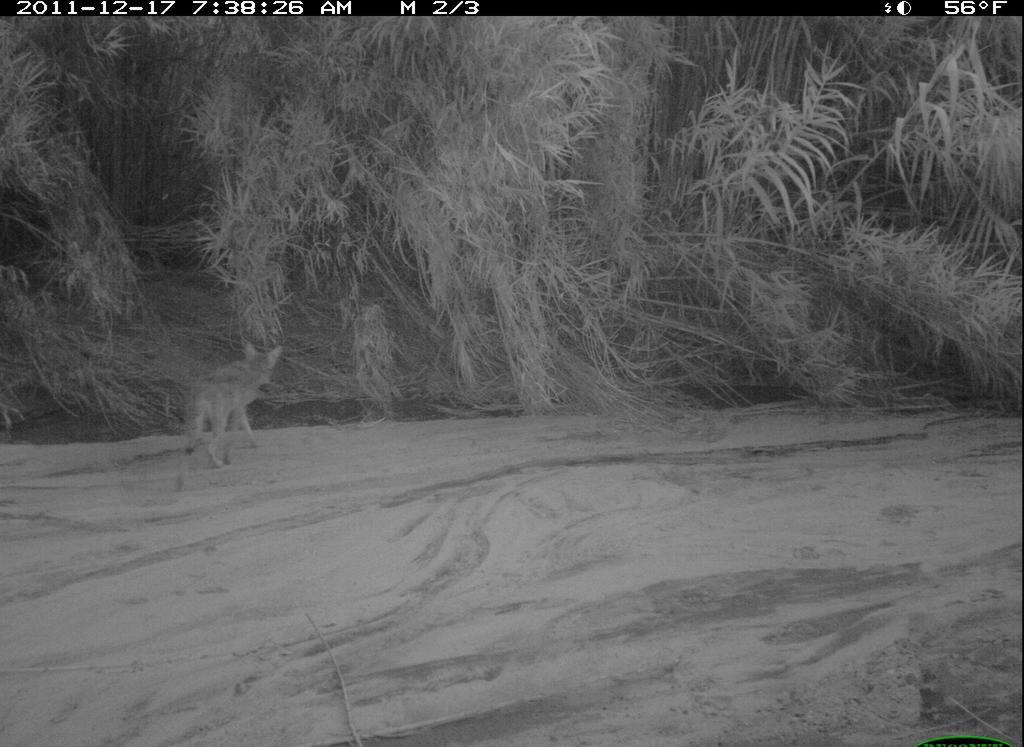coyote: (172, 335, 289, 477)
